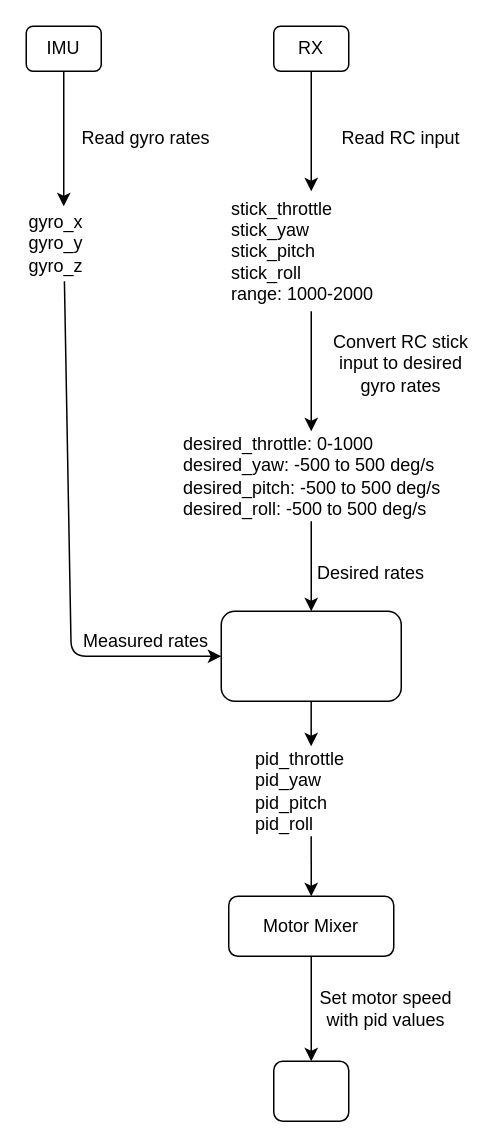
The diagram is 503 pixels wide and 1148 high, and some of its shapes have lost their labels. The centre of each missing label's shape, as x and y in pixels:
ESC: [310,1090]
Update pid values: [310,655]
